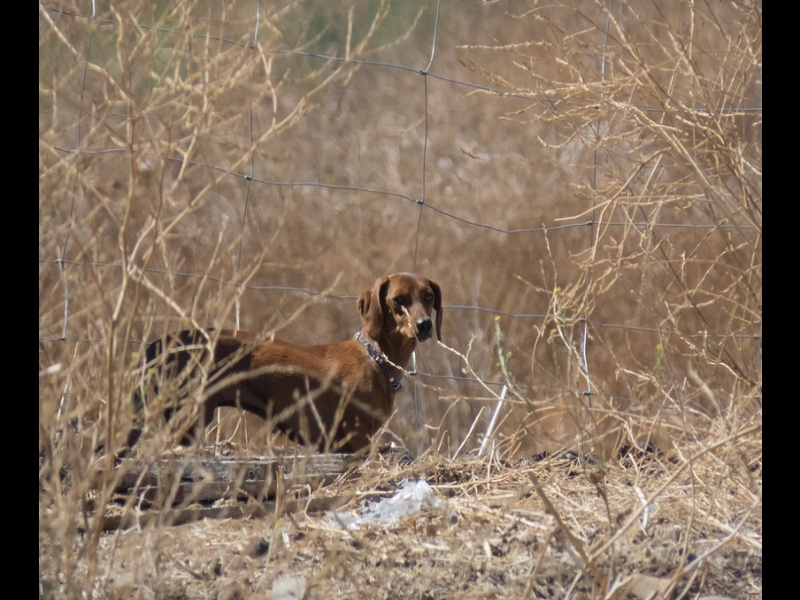dog: (116, 273, 442, 473)
